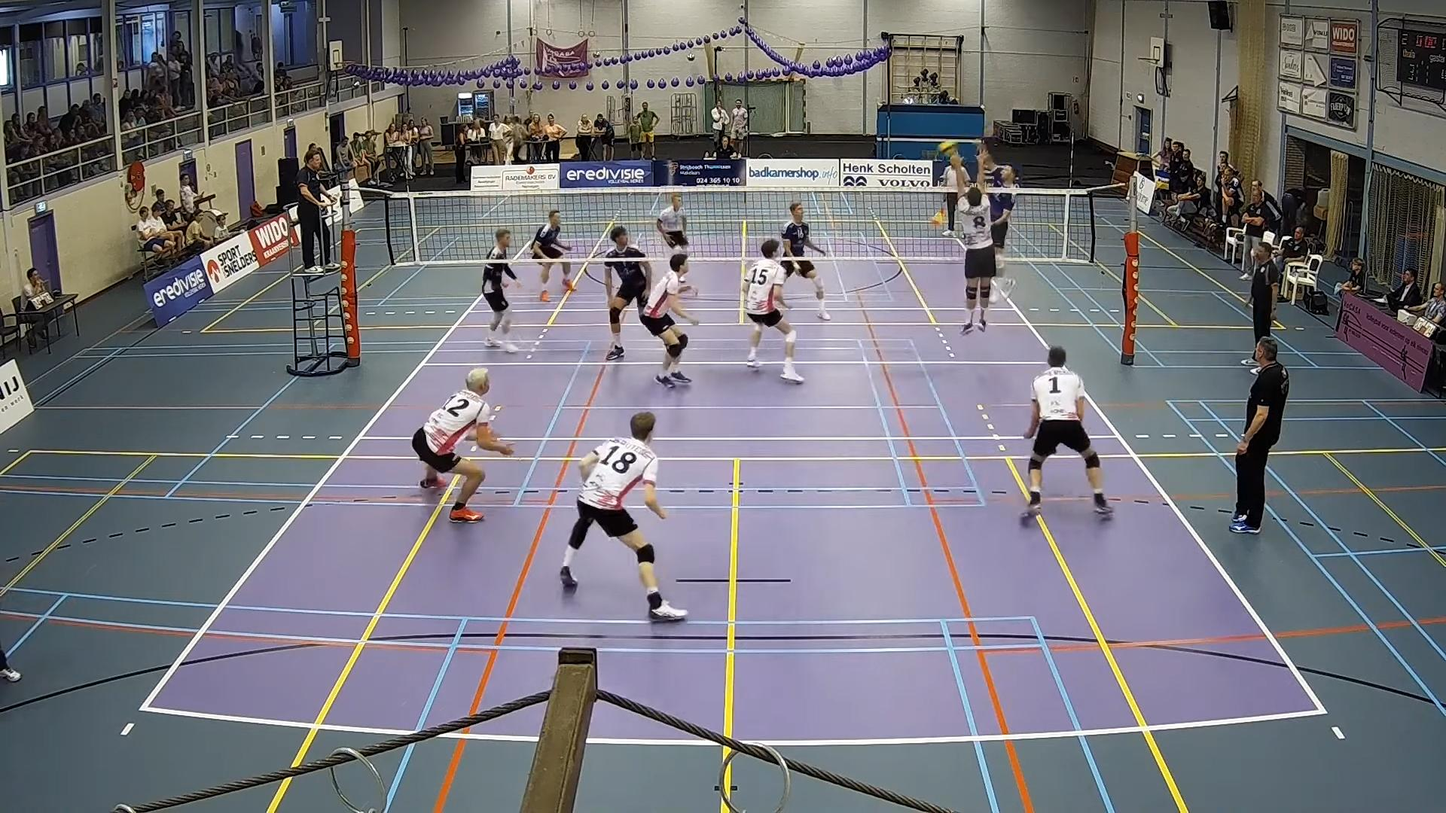attacco: (978, 149, 1023, 311)
muro: (953, 164, 1008, 338)
